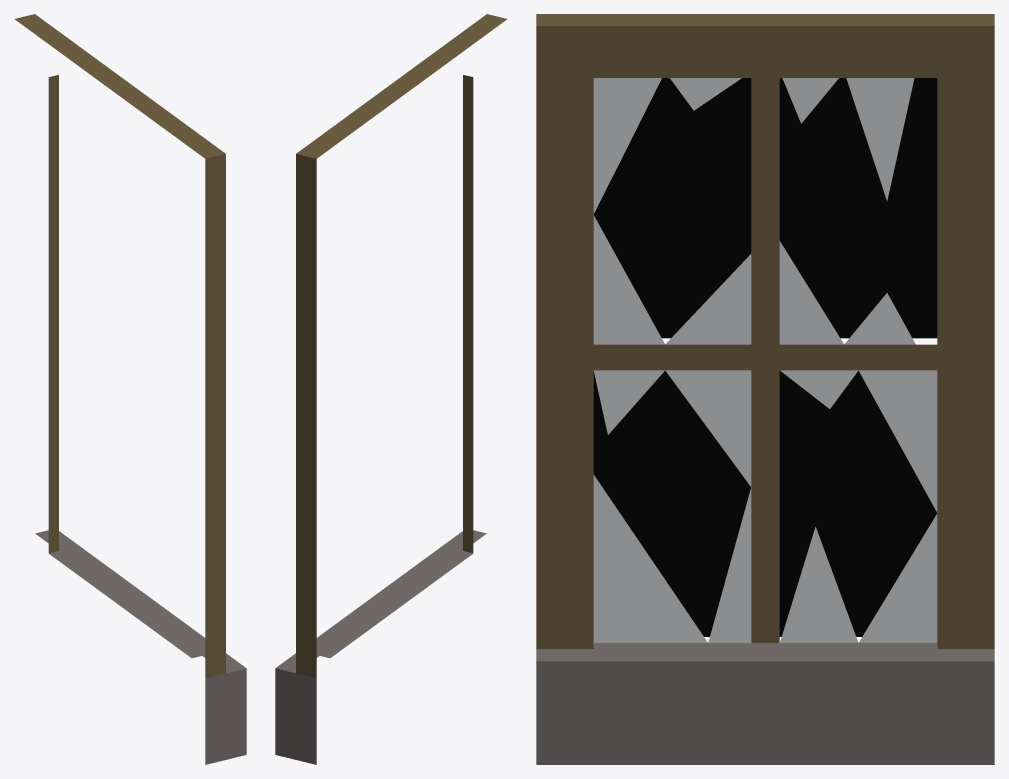
3 views of the same model, side by side, from view 1: azimuth 30°, elevation 25°; view 2: azimuth 150°, elevation 25°; view 3: azimuth 270°, elevation 25° (orthographic). The views are drawn at different scales.
Size of the model in its own units: 8 by 112 by 64.
1 material, 1 textured.
